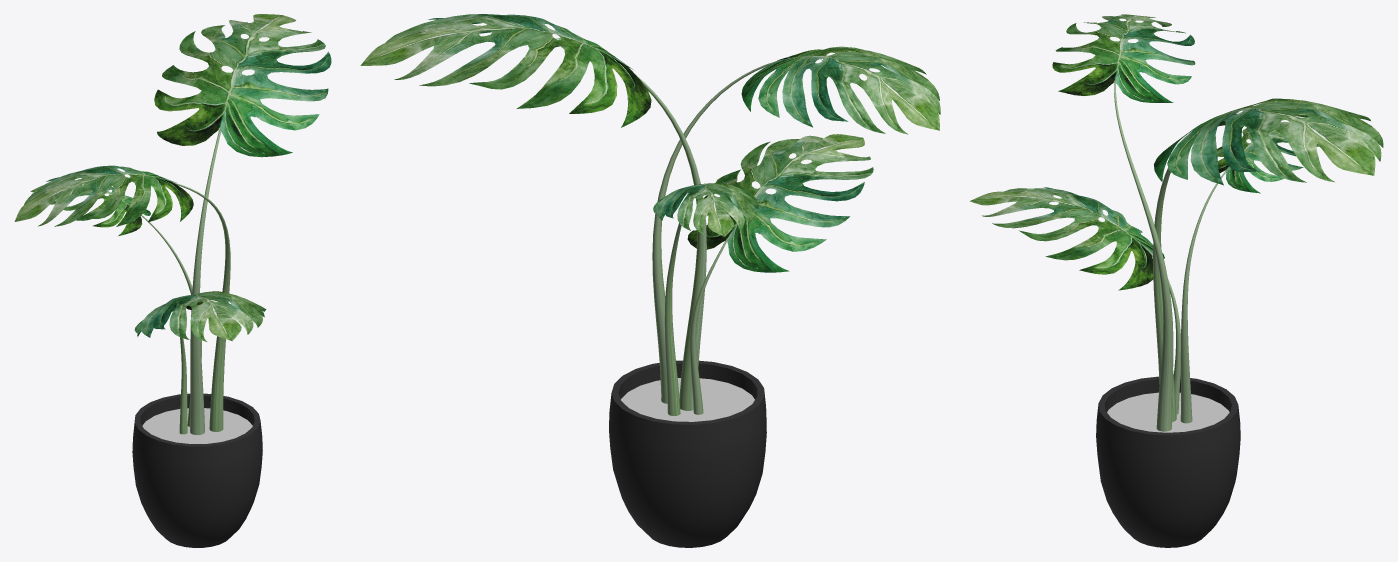
Rendered from plant.fbx.
The picture shows the model from 3 angles, left to right: view 1: azimuth 30°, elevation 25°; view 2: azimuth 150°, elevation 25°; view 3: azimuth 270°, elevation 25°; orthographic projection. The views are drawn at different scales.
Visible parts, largest first — view 1: plant; view 2: plant; view 3: plant.
Boxes of the visible parts, box(x1,y1,x2,y2) form: plant: box(14, 14, 331, 547); plant: box(360, 14, 940, 547); plant: box(970, 14, 1383, 547).
Bounding box in the file's own units: 137 × 148 × 117.
